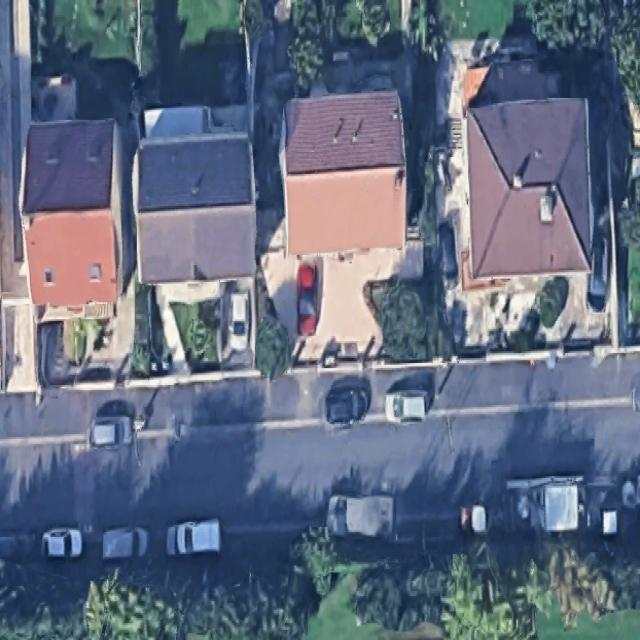maison: (463, 96, 595, 277), (276, 91, 410, 252), (19, 119, 126, 309), (136, 132, 256, 288)
